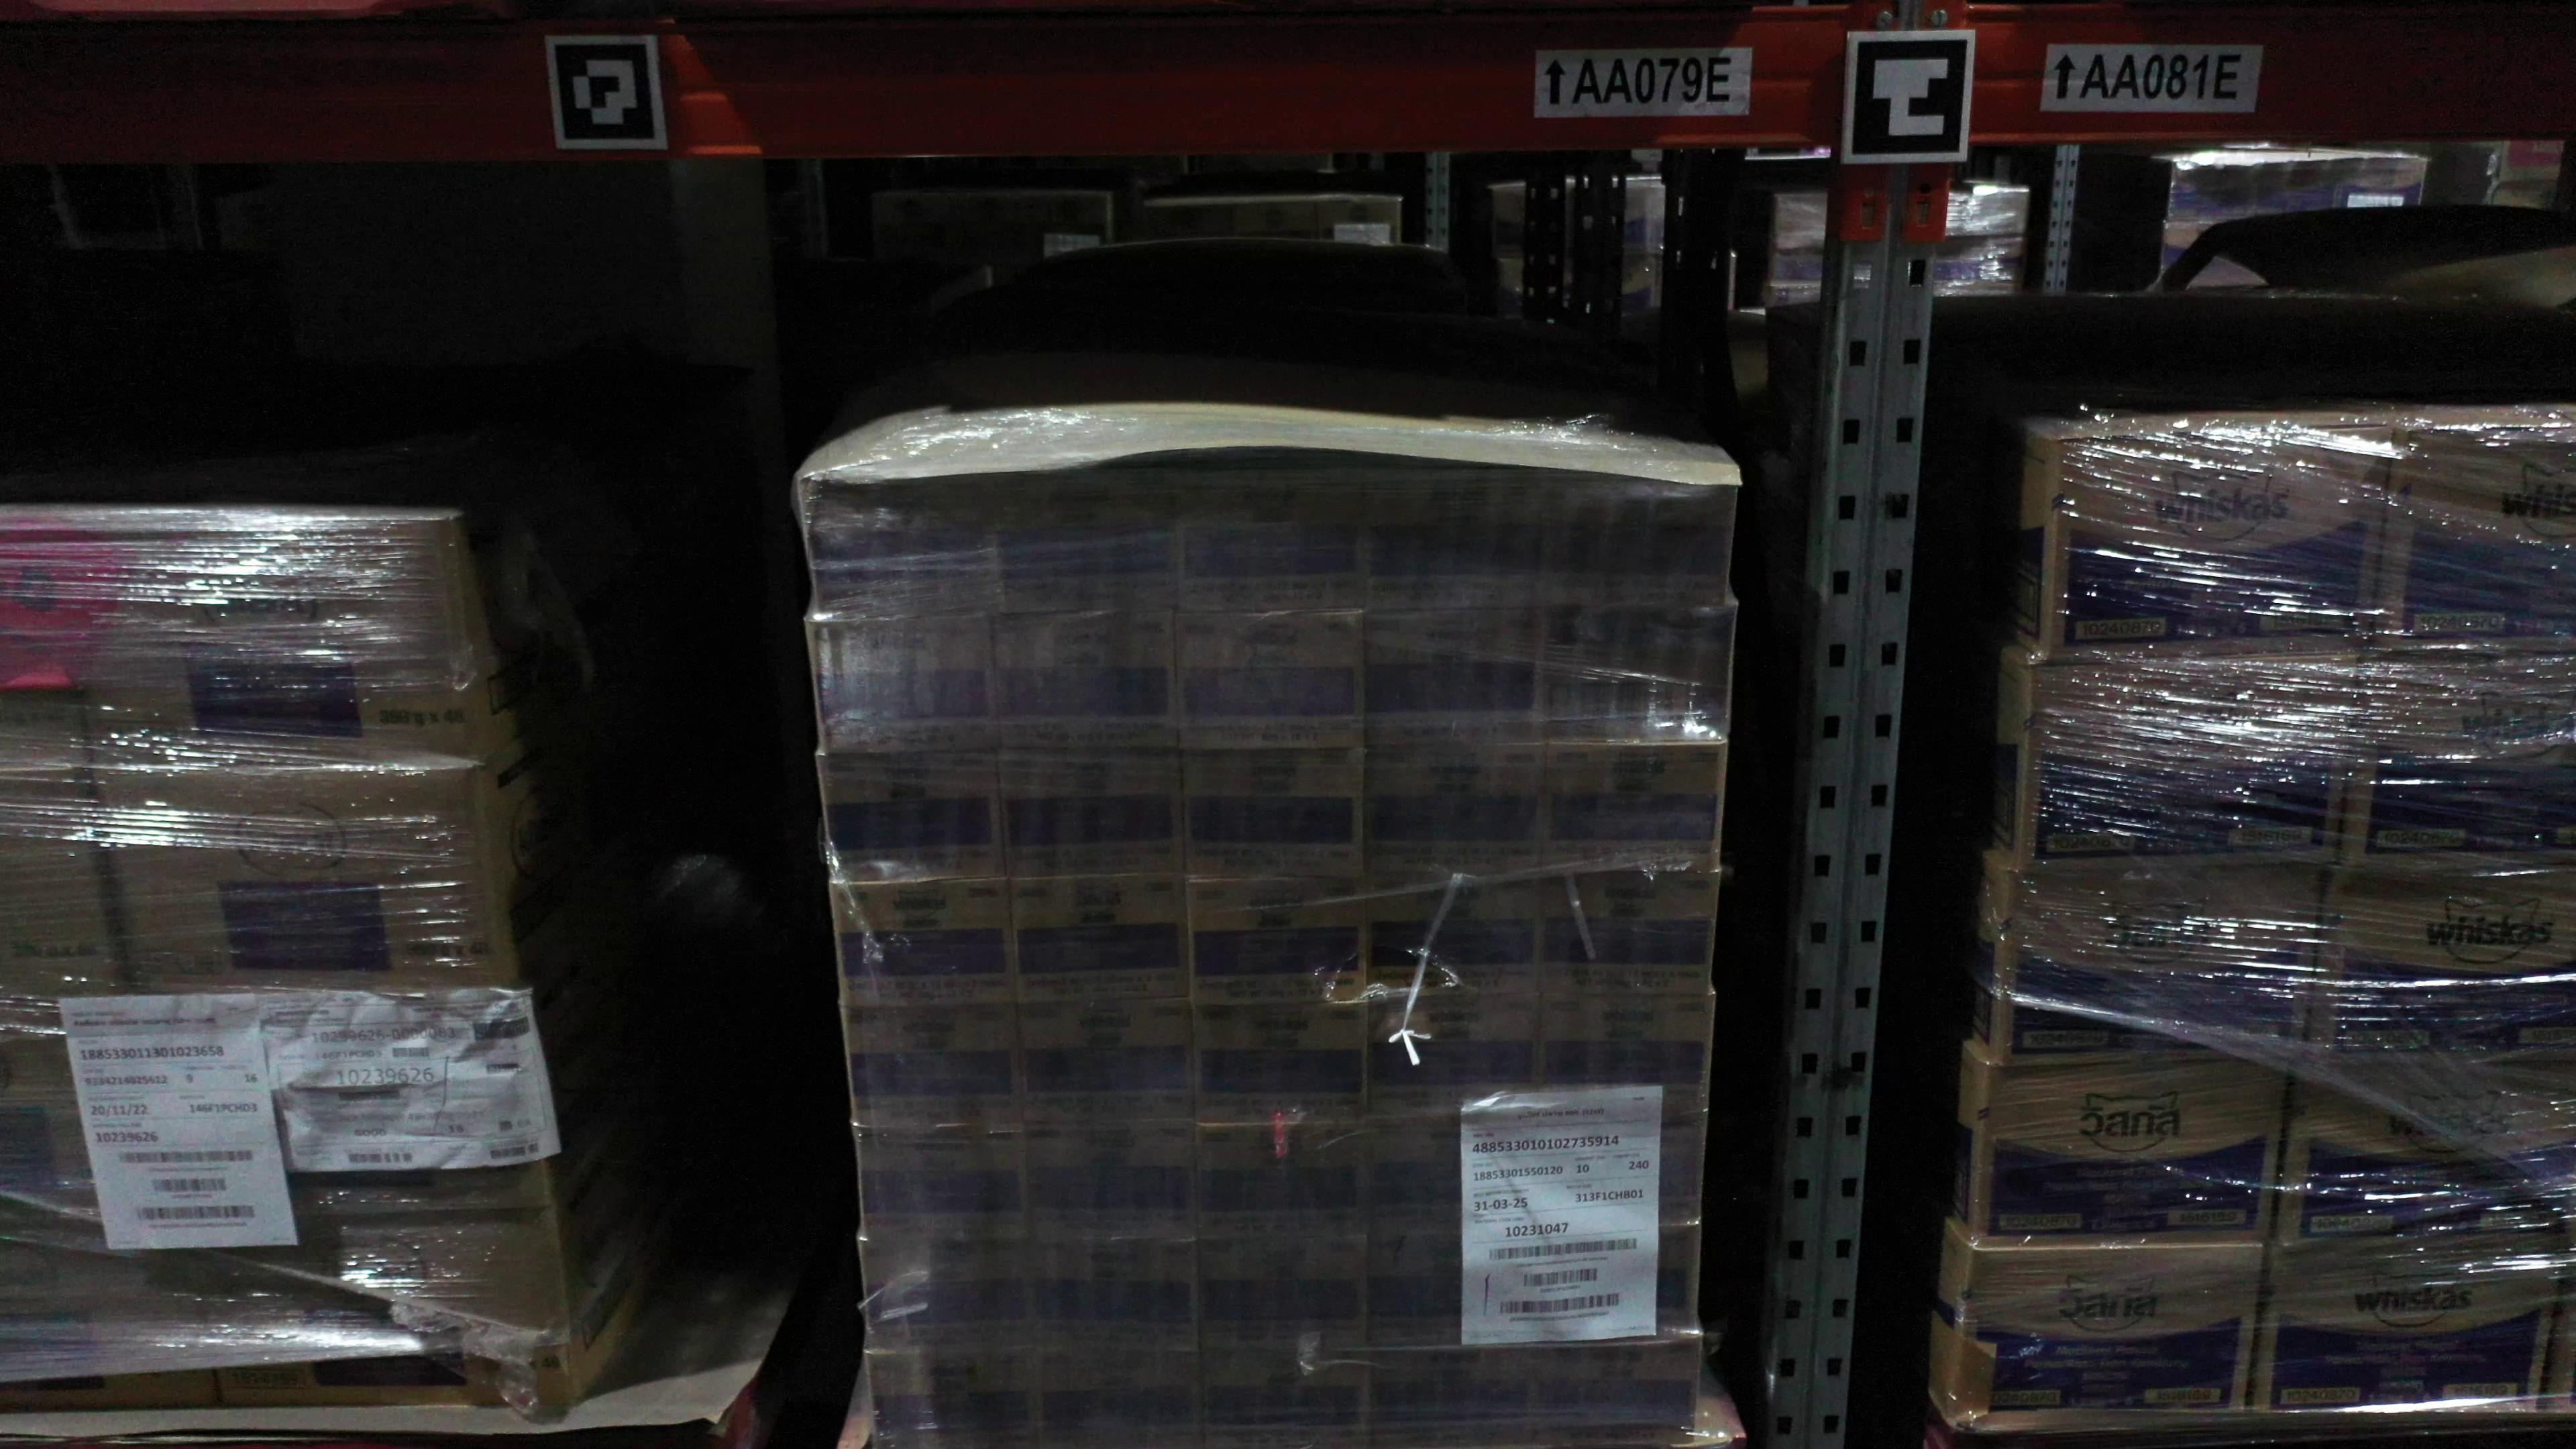-: (53, 518, 472, 770), (103, 763, 502, 1016), (142, 1000, 548, 1230), (2043, 425, 2392, 658), (188, 1208, 575, 1405), (2019, 662, 2362, 870), (1992, 855, 2330, 1060), (1967, 1056, 2291, 1247), (2270, 1051, 2576, 1246), (2245, 1240, 2562, 1422), (2304, 853, 2576, 1051), (1951, 1244, 2265, 1415), (2367, 423, 2576, 658), (2339, 655, 2576, 858), (0, 1219, 218, 1408), (0, 1019, 184, 1231), (0, 764, 134, 1033), (985, 449, 1184, 616), (1178, 446, 1369, 612), (1368, 448, 1550, 616), (1548, 449, 1734, 609), (1171, 602, 1366, 752), (800, 467, 993, 617), (1364, 738, 1552, 881), (812, 616, 1001, 757), (994, 609, 1178, 754), (1548, 603, 1736, 745), (1362, 607, 1550, 743), (1180, 747, 1364, 883), (1000, 748, 1185, 883), (1545, 743, 1730, 876), (1010, 876, 1194, 1008), (823, 752, 1008, 883), (830, 881, 1016, 1010), (840, 1007, 1024, 1136), (1536, 991, 1718, 1120), (1187, 881, 1369, 1007), (1017, 1003, 1194, 1132), (1194, 994, 1366, 1127), (1366, 876, 1545, 1001), (1543, 867, 1721, 993), (1366, 1000, 1543, 1125), (1196, 1122, 1369, 1244), (1366, 1230, 1541, 1350), (1026, 1127, 1196, 1251), (1536, 1223, 1704, 1346), (858, 1240, 1037, 1355), (5, 525, 87, 777), (1366, 1122, 1541, 1237), (858, 1129, 1028, 1246), (1201, 1237, 1368, 1355), (1031, 1238, 1196, 1357), (1534, 1336, 1700, 1449), (1539, 1116, 1704, 1230), (872, 1348, 1047, 1449), (1368, 1345, 1536, 1449), (1203, 1348, 1373, 1449), (1042, 1348, 1207, 1449)
